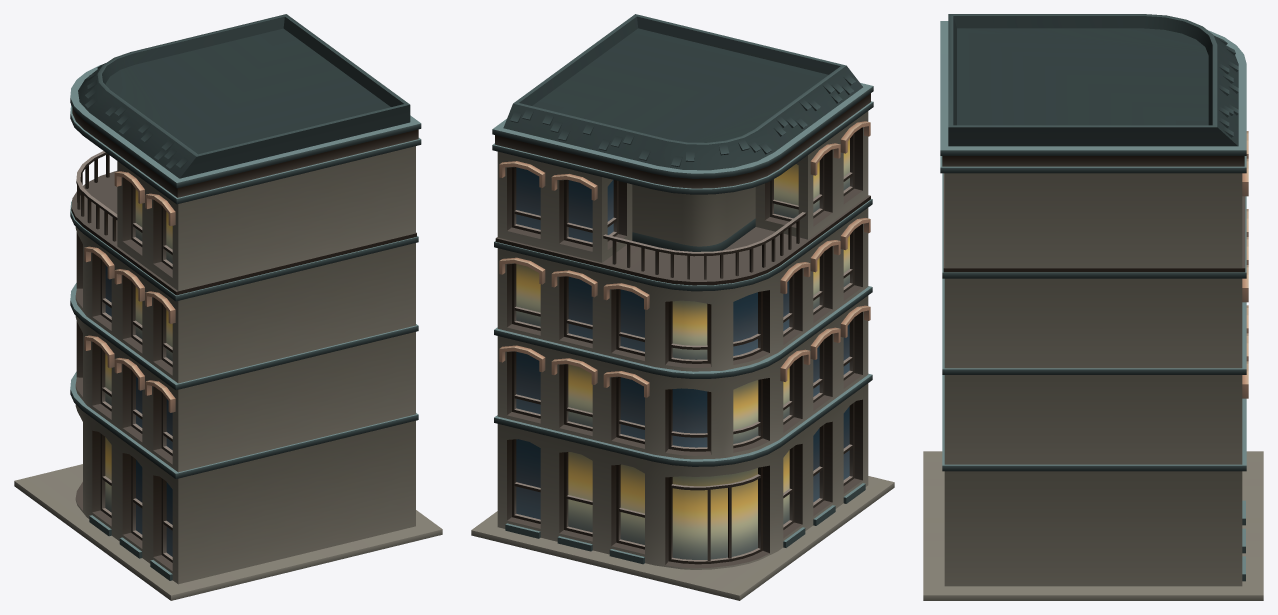
File: Building_20C.fbx
3 renders of one model, left to right at view 1: azimuth 30°, elevation 25°; view 2: azimuth 150°, elevation 25°; view 3: azimuth 270°, elevation 25°, orthographic. The views are drawn at different scales.
Parts seen in each view (by area): view 1: Building_20C, Window_Lights_20C; view 2: Building_20C, Window_Lights_20C; view 3: Building_20C.
Part boxes in pixels (x1=…): Building_20C: x1=14, y1=14, x2=442, y2=600; Window_Lights_20C: x1=105, y1=189, x2=172, y2=512; Building_20C: x1=471, y1=14, x2=894, y2=600; Window_Lights_20C: x1=516, y1=139, x2=849, y2=559; Building_20C: x1=923, y1=14, x2=1263, y2=600.
Size of the model in its own units: 1600 by 2400 by 1600.
